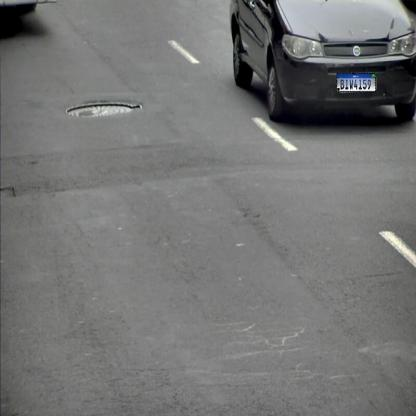PlacaM: (336, 73, 376, 92)
